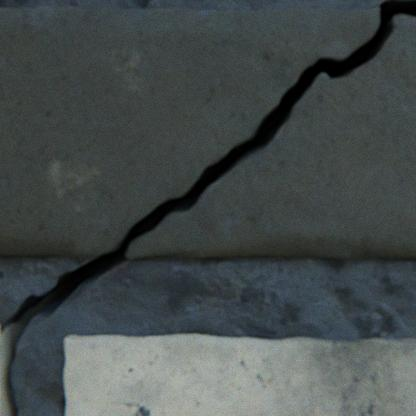brick: (64, 333, 415, 415), (0, 350, 3, 415), (0, 323, 1, 338)
broken_brick: (0, 7, 379, 254), (127, 15, 415, 257)
crack: (0, 0, 415, 415)
